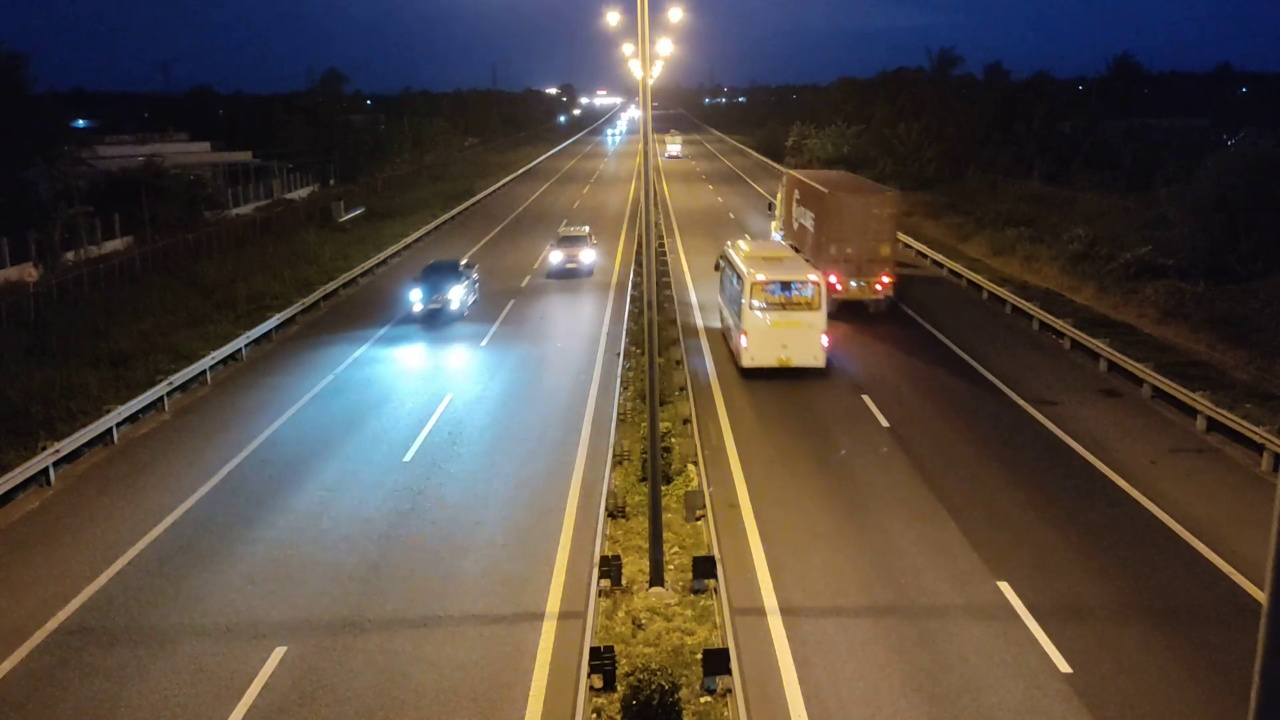bus: (712, 226, 837, 378)
car: (406, 259, 480, 327), (545, 225, 598, 279)
truck: (769, 167, 899, 315)
